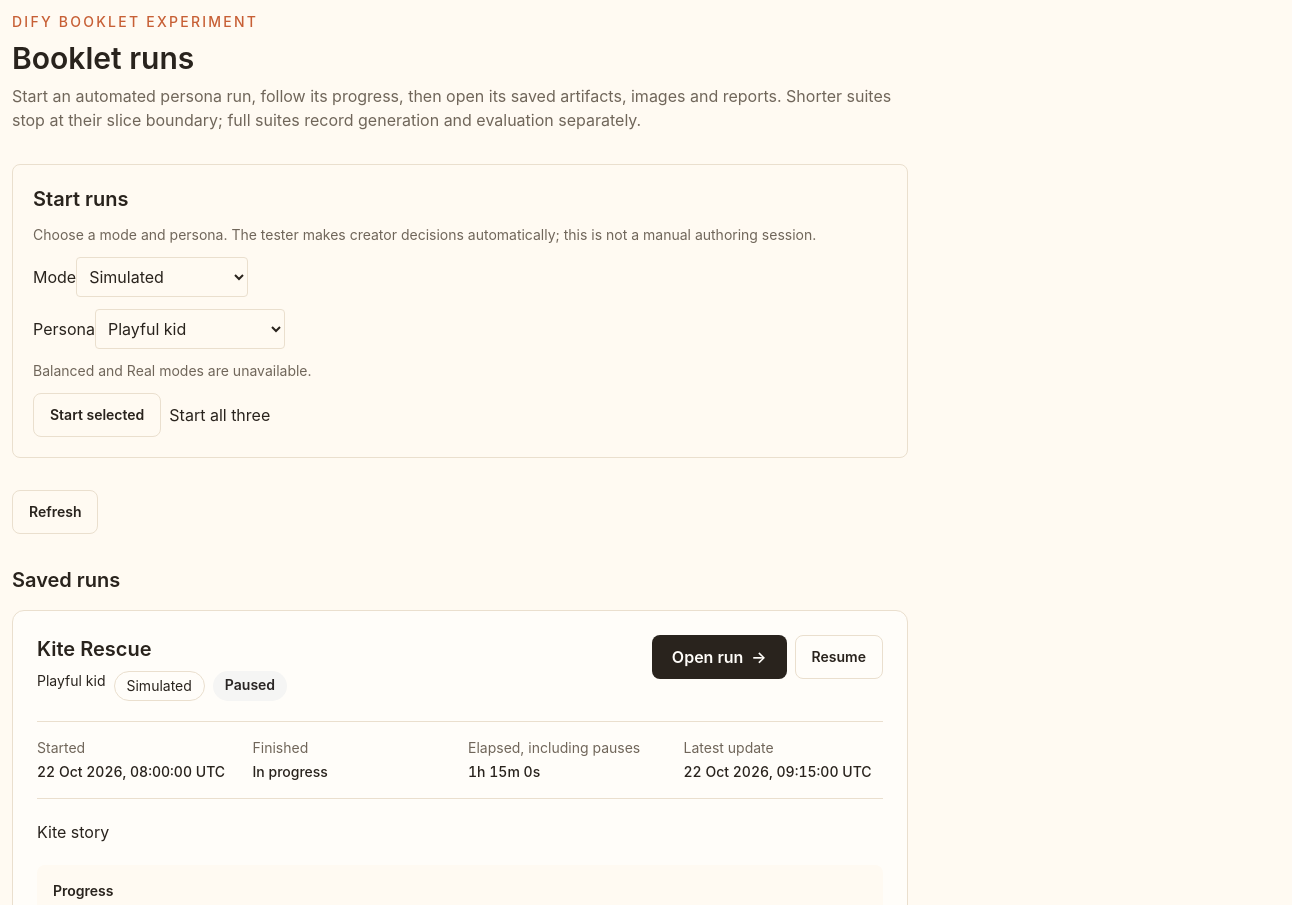
Test case: booklet runner inspector › does not resume a run that became blocked during read-back
Click the button "Resume": (839,657) top-left (795, 635), bottom-right (883, 679)
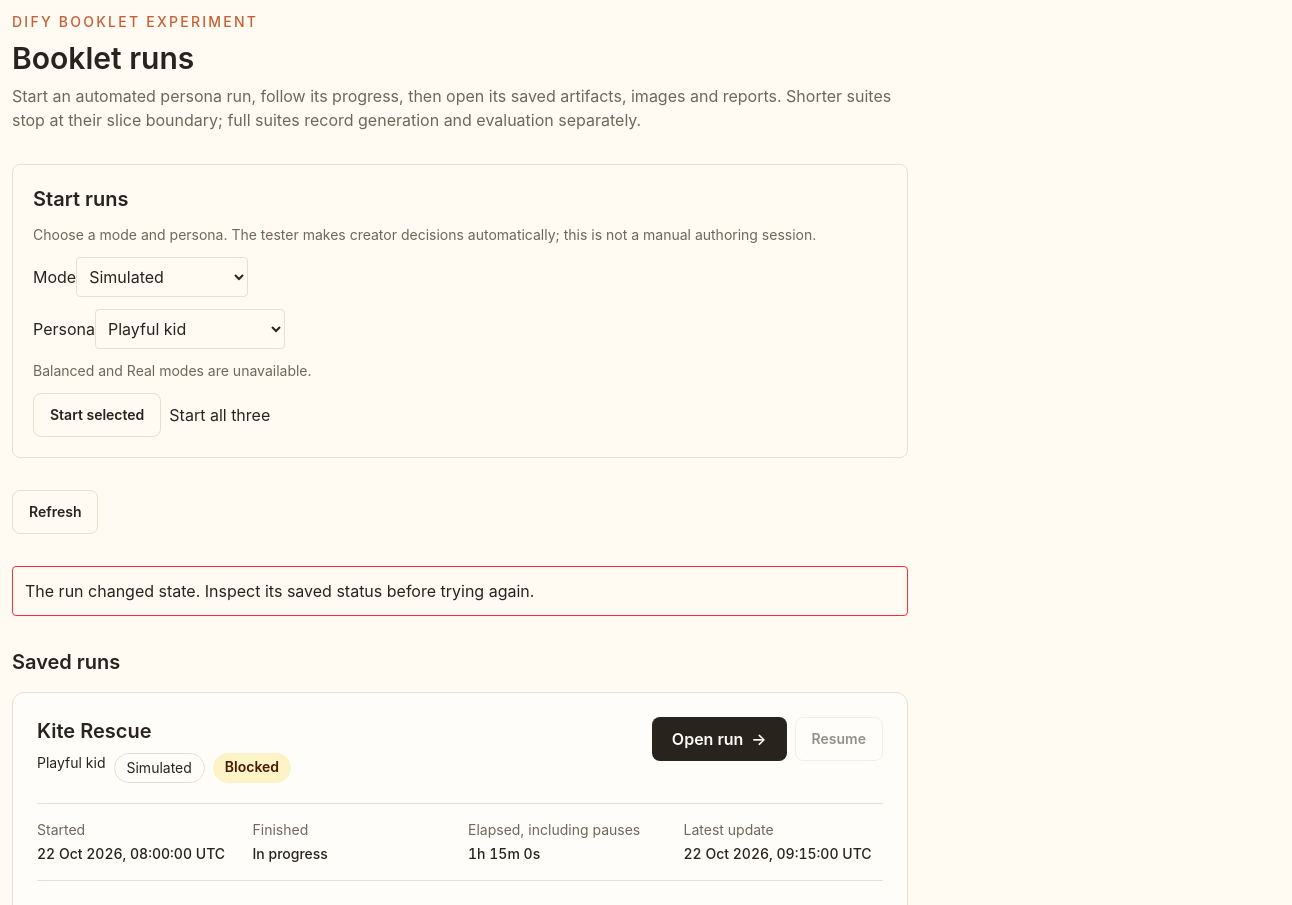
Check: the message shows "Inspect its saved status", box top-left (25, 581), bottom-right (534, 601)
